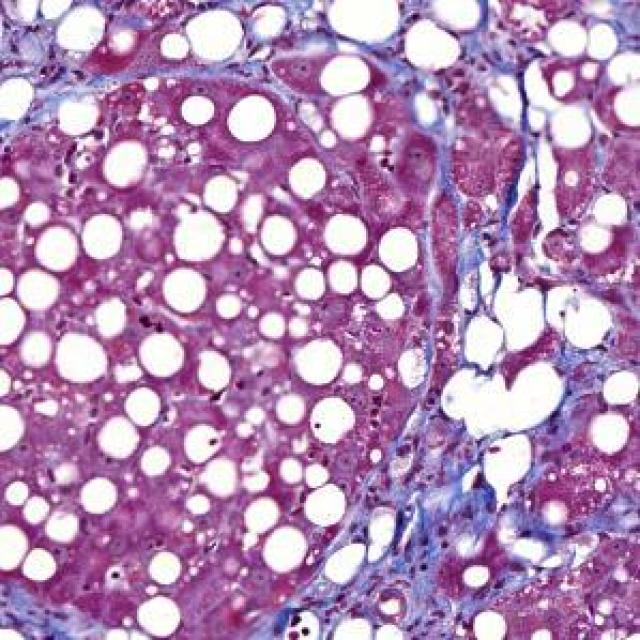fibrosis: (358, 413, 568, 612)
